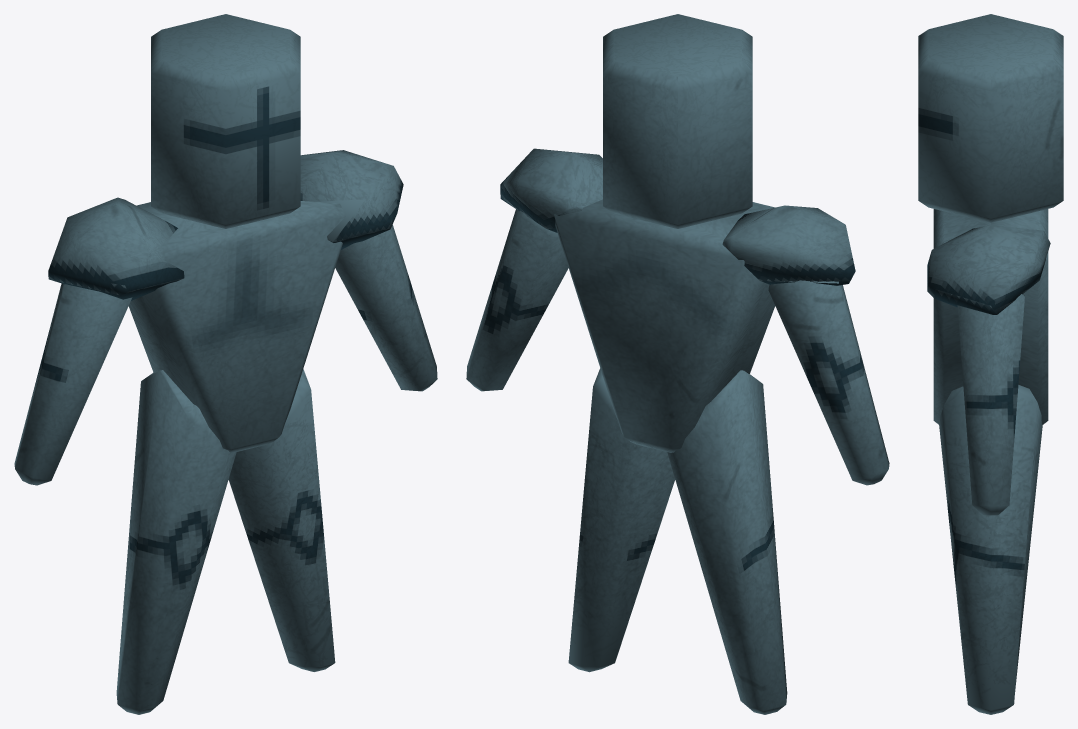
File: knight.obj
3 renders of one model, left to right at view 1: azimuth 30°, elevation 25°; view 2: azimuth 150°, elevation 25°; view 3: azimuth 270°, elevation 25°, orthographic. The views are drawn at different scales.
Visible parts, largest first — view 1: Plane; view 2: Plane; view 3: Plane.
Boxes of the visible parts, <box> form: Plane: <box>14,14,437,714</box>; Plane: <box>466,14,889,714</box>; Plane: <box>918,14,1063,714</box>.
Bounding box in the file's own units: 3.94 × 5.74 × 1.21.
